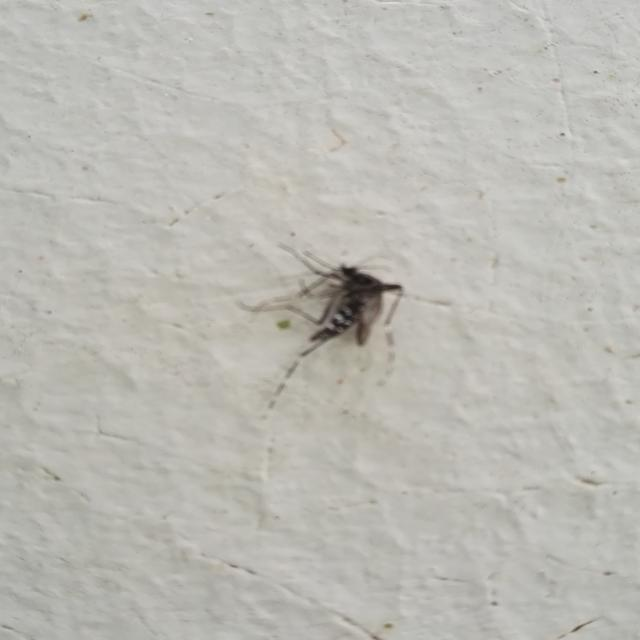albopictus: (252, 228, 453, 384)
